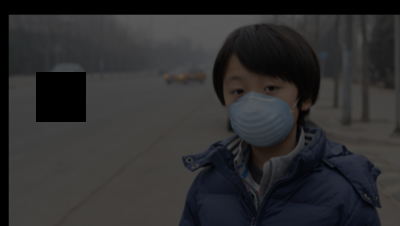with_mask: (222, 68, 299, 146)
